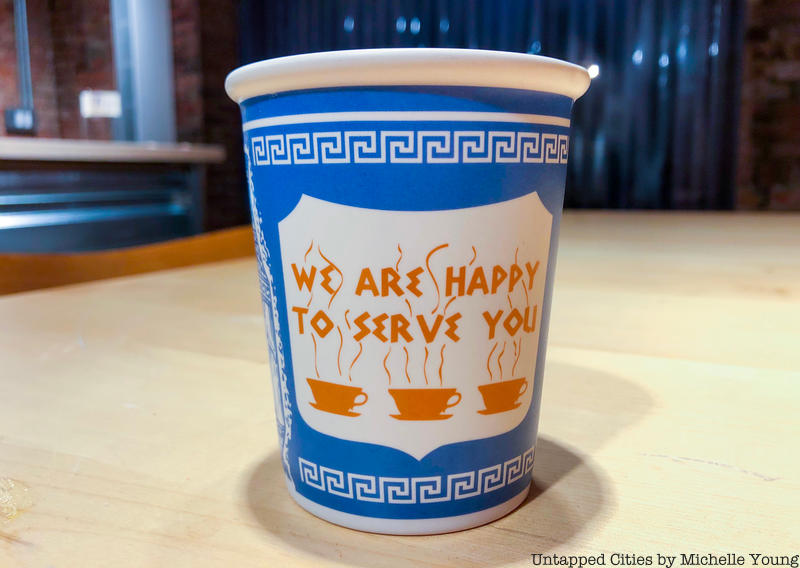cup: (223, 45, 592, 538)
